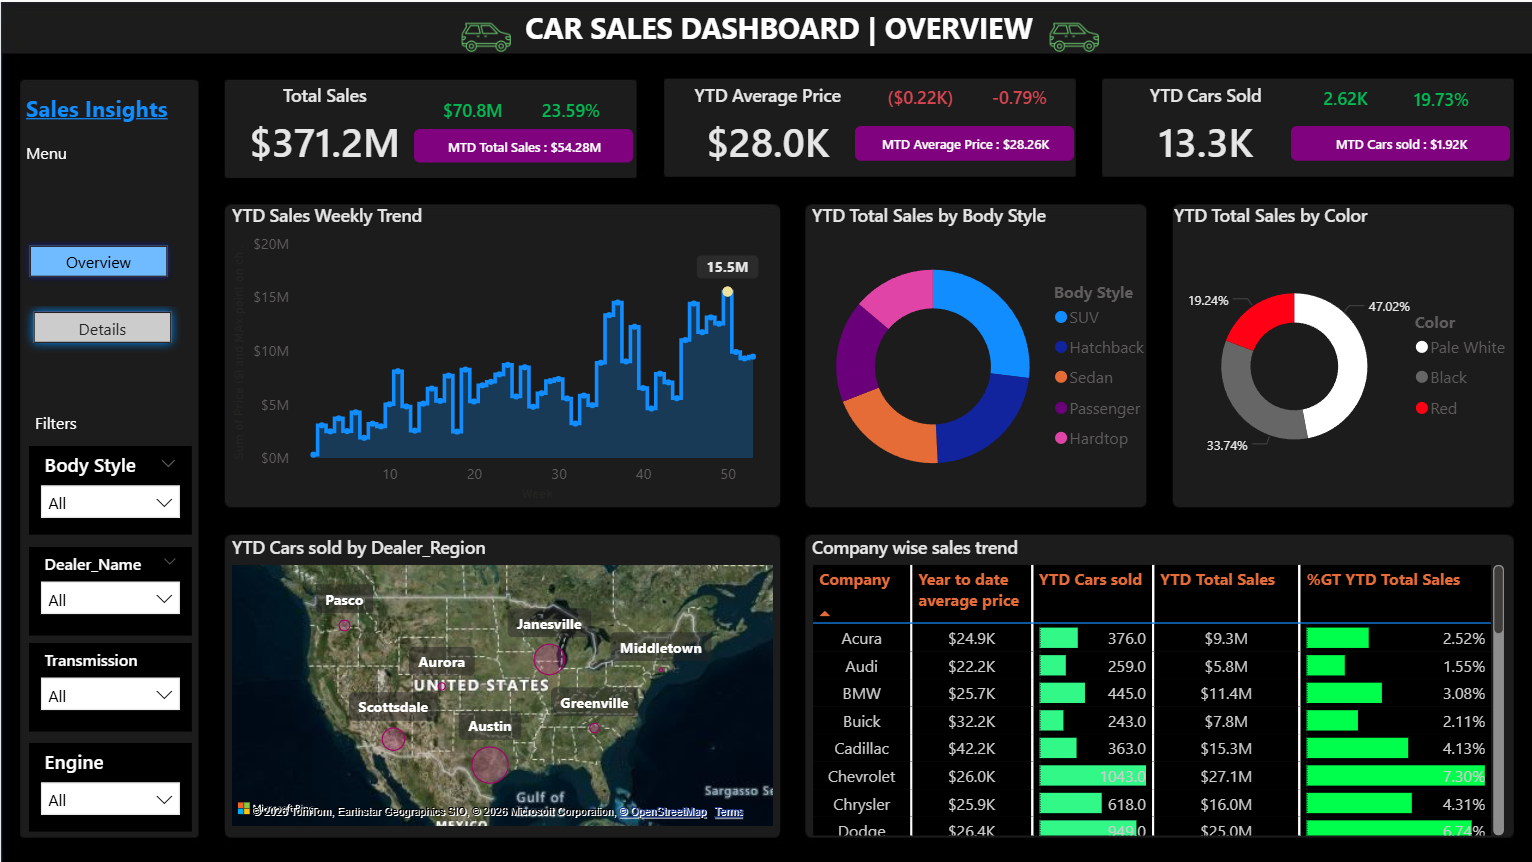

Layout of this report page (visuals, bound fields, positions):
{"tool":"powerbi","page":{"name":"Overview","canvas":[1280,720],"ordinal":0},"visuals":[{"type":"card","title":"Total Sales","fields":{"Values":["Car_Data.YTD Total Sales"]},"box":[188,67.4,164.9,78],"z":0},{"type":"card","title":"Sales Difference","fields":{"Values":["Car_Data.Sales difference"]},"box":[348.5,78.9,91.3,25.7],"z":1000},{"type":"card","title":"Sales Difference","fields":{"Values":["Car_Data.Year on Year sales growth"]},"box":[430,78.9,91.3,25.7],"z":2000},{"type":"card","fields":{"Values":["Car_Data.Month to date KPI"]},"box":[344.9,106.4,182.7,28.4],"z":3000},{"type":"card","title":"YTD Average Price","fields":{"Values":["Car_Data.Year to date average price"]},"box":[557.7,67.4,164.9,78],"z":4000},{"type":"card","title":"Sales Difference","fields":{"Values":["Car_Data.Avg. price diff."]},"box":[722.9,66.5,90.8,25.3],"z":5000},{"type":"card","title":"Sales Difference","fields":{"Values":["Car_Data.Year on Year Avg. Price growth"]},"box":[805.3,66.5,90.8,25.3],"z":6000},{"type":"card","fields":{"Values":["Car_Data.Month to date Average KPI"]},"box":[713.5,103.9,182.6,29],"z":7000},{"type":"card","title":"YTD Cars Sold","fields":{"Values":["Car_Data.YTD Cars sold"]},"box":[924.2,67.4,164.8,77.7],"z":8000},{"type":"card","title":"Sales Difference","fields":{"Values":["Car_Data.Cars sold diff"]},"box":[1077.4,68.1,90.8,25.3],"z":9000},{"type":"card","title":"Sales Difference","fields":{"Values":["Car_Data.Year on Year cars sold growth"]},"box":[1157.3,68.4,90.8,25.3],"z":10000},{"type":"card","fields":{"Values":["Car_Data.Month to date cars sold KPI"]},"box":[1077.7,103.9,182.6,29],"z":11000},{"type":"areaChart","title":"YTD Sales Weekly Trend","fields":{"Category":["Calendar Table.Week"],"Y":["Sum(Car_Data.Price ($))","Car_Data.MAx point on chart"]},"box":[187.8,167.8,462.2,253.3],"z":12000},{"type":"donutChart","fields":{"Category":["Car_Data.Body Style"],"Y":["Car_Data.YTD Total Sales"]},"box":[672,168,296,253],"z":13000},{"type":"donutChart","fields":{"Y":["Car_Data.YTD Total Sales"],"Category":["Car_Data.Color"]},"box":[975,168,296,253],"z":14000},{"type":"map","fields":{"Size":["Car_Data.YTD Cars sold"],"Category":["Car_Data.Dealer_Region"]},"box":[187.8,445.6,462.2,247.8],"z":15000},{"type":"tableEx","title":"Company wise sales trend","fields":{"Values":["Car_Data.Company","Car_Data.Year to date average price","Car_Data.YTD Cars sold","Car_Data.YTD Total Sales1","Car_Data.YTD Total Sales"]},"box":[672.2,445.6,587.8,255.6],"z":16000},{"type":"textbox","box":[424.4,0,451.1,44.4],"z":17000},{"type":"slicer","fields":{"Values":["Car_Data.Body Style"]},"box":[23.3,371.1,135.6,74.4],"z":18000},{"type":"slicer","fields":{"Values":["Car_Data.Dealer_Name"]},"box":[23.3,455.6,135.6,74.4],"z":19000},{"type":"slicer","fields":{"Values":["Car_Data.Transmission"]},"box":[23.3,535.6,135.6,74.4],"z":20000},{"type":"slicer","fields":{"Values":["Car_Data.Engine"]},"box":[23.3,618.9,135.6,74.4],"z":21000},{"type":"textbox","box":[23.3,337.8,47.8,33.3],"z":22000},{"type":"pageNavigator","box":[18.9,198.9,131.1,95.6],"z":23000},{"type":"textbox","box":[15.6,71.1,143.3,47.8],"z":24000},{"type":"textbox","box":[15.6,112.2,67.8,33.3],"z":25000},{"type":"image","box":[371.1,0,68.9,58.9],"z":26000},{"type":"image","box":[862.2,0,68.9,58.9],"z":27000}]}

Visuals, with their boxes in screenshot pixels (x1, y1, x2, y2), scaled from the page's 1280x720 canvas onto the 1532x862 screenshot:
"Total Sales" card: 225:81:422:174
"Sales Difference" card: 417:94:526:125
"Sales Difference" card: 515:94:624:125
card - Car_Data.Month to date KPI: 413:127:631:161
"YTD Average Price" card: 667:81:865:174
"Sales Difference" card: 865:80:974:110
"Sales Difference" card: 964:80:1073:110
card - Car_Data.Month to date Average KPI: 854:124:1073:159
"YTD Cars Sold" card: 1106:81:1303:174
"Sales Difference" card: 1290:82:1398:112
"Sales Difference" card: 1385:82:1494:112
card - Car_Data.Month to date cars sold KPI: 1290:124:1508:159
"YTD Sales Weekly Trend" areaChart: 225:201:778:504
donutChart - Car_Data.Body Style x Car_Data.YTD Total Sales: 804:201:1159:504
donutChart - Car_Data.YTD Total Sales x Car_Data.Color: 1167:201:1521:504
map - Car_Data.YTD Cars sold x Car_Data.Dealer_Region: 225:533:778:830
"Company wise sales trend" tableEx: 805:533:1508:839
textbox: 508:0:1048:53
slicer - Car_Data.Body Style: 28:444:190:533
slicer - Car_Data.Dealer_Name: 28:545:190:635
slicer - Car_Data.Transmission: 28:641:190:730
slicer - Car_Data.Engine: 28:741:190:830
textbox: 28:404:85:444
pageNavigator: 23:238:180:353
textbox: 19:85:190:142
textbox: 19:134:100:174
image: 444:0:527:71
image: 1032:0:1114:71
